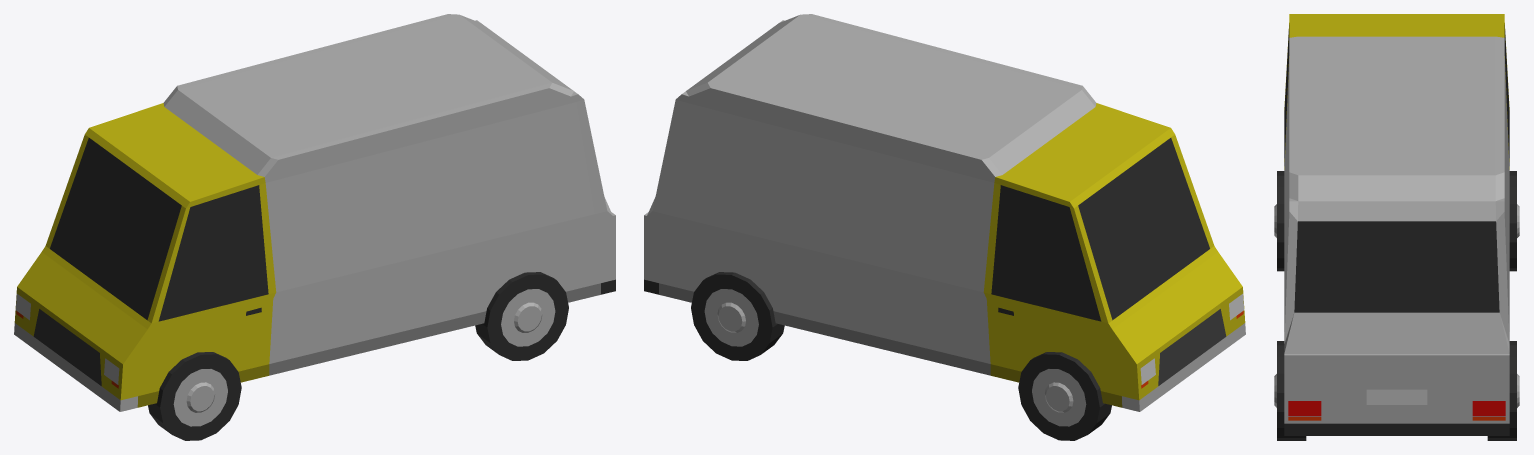
Rendered from Car3b.fbx.
The picture shows the model from 3 angles, left to right: view 1: azimuth 30°, elevation 25°; view 2: azimuth 150°, elevation 25°; view 3: azimuth 270°, elevation 25°; orthographic projection. The views are drawn at different scales.
Parts seen in each view (by area): view 1: Car3b, Car3b_FL, Car3b_RL; view 2: Car3b, Car3b_FR, Car3b_RR; view 3: Car3b, Car3b_RL, Car3b_RR, Car3b_FL, Car3b_FR.
Boxes of the visible parts, <box> form: Car3b: <box>14,14,615,411</box>; Car3b_FL: <box>148,352,241,440</box>; Car3b_RL: <box>475,272,568,360</box>; Car3b: <box>644,14,1245,411</box>; Car3b_FR: <box>1018,352,1111,440</box>; Car3b_RR: <box>691,272,784,360</box>; Car3b: <box>1284,14,1509,435</box>; Car3b_RL: <box>1274,341,1306,440</box>; Car3b_RR: <box>1487,341,1519,440</box>; Car3b_FL: <box>1274,171,1284,271</box>; Car3b_FR: <box>1509,171,1519,271</box>.
Size of the model in its own units: 4.2 by 2.12 by 1.69.
